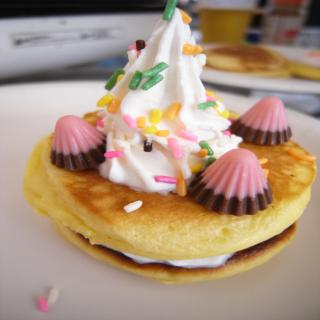Pancake: (22, 107, 316, 258)
